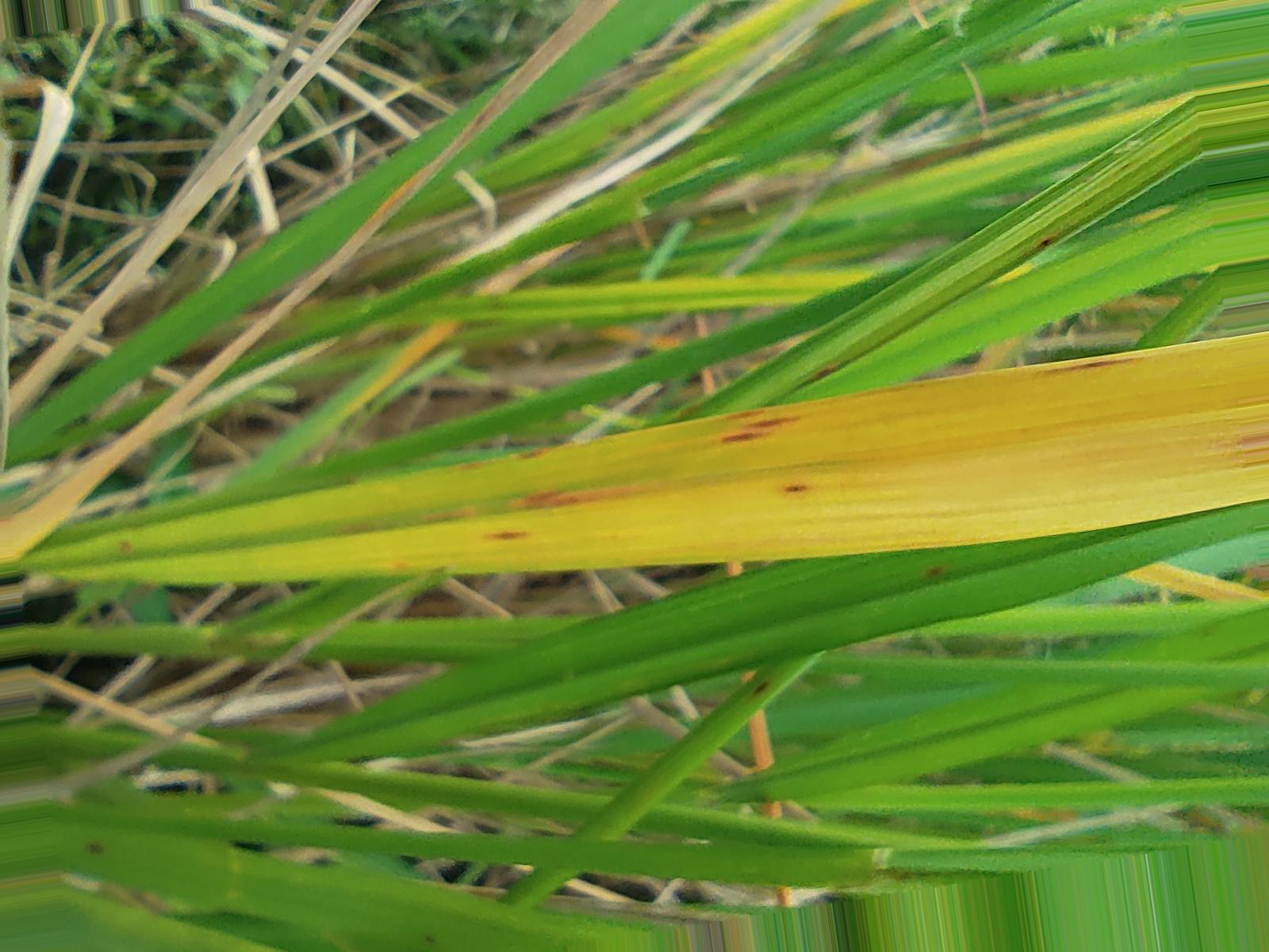LEAF: (29, 338, 1245, 584)
NBS: (1040, 357, 1139, 375), (515, 486, 568, 506), (745, 415, 801, 429), (724, 433, 771, 443), (725, 410, 764, 420), (486, 530, 530, 538), (456, 462, 480, 470), (785, 485, 808, 492)
